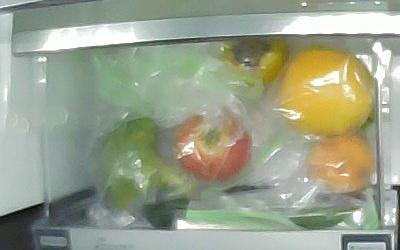apple_vinyl: (176, 114, 252, 182)
broccoli_vinyl: (92, 118, 198, 210)
cucumber_vinyl: (141, 198, 365, 230)
grapefruit_vinyl: (281, 48, 374, 136)
peach_vinyl: (308, 136, 374, 192)
persimmon_vinyl: (221, 39, 290, 85)
